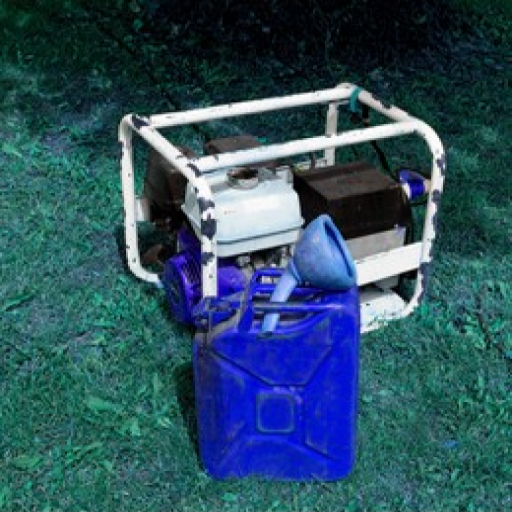portable_generator: (117, 81, 447, 337)
